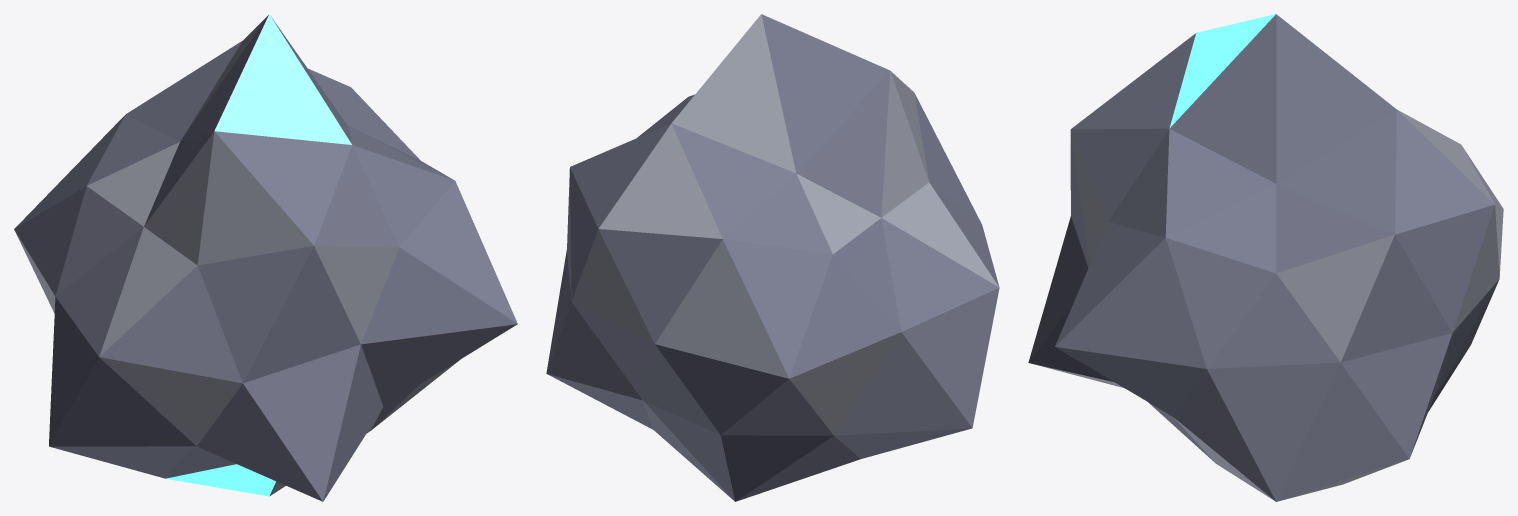
Rendered from asteroid_01.glb.
3 renders of one model, left to right at view 1: azimuth 30°, elevation 25°; view 2: azimuth 150°, elevation 25°; view 3: azimuth 270°, elevation 25°, orthographic. The views are drawn at different scales.
Visible parts, largest first — view 1: asteroid_01; view 2: asteroid_01; view 3: asteroid_01.
Part boxes in pixels (x1,y1,x2,y2): asteroid_01: (14, 14, 517, 501); asteroid_01: (546, 14, 999, 501); asteroid_01: (1028, 14, 1503, 501).
Bounding box in the file's own units: 1.74 × 1.92 × 1.71.
